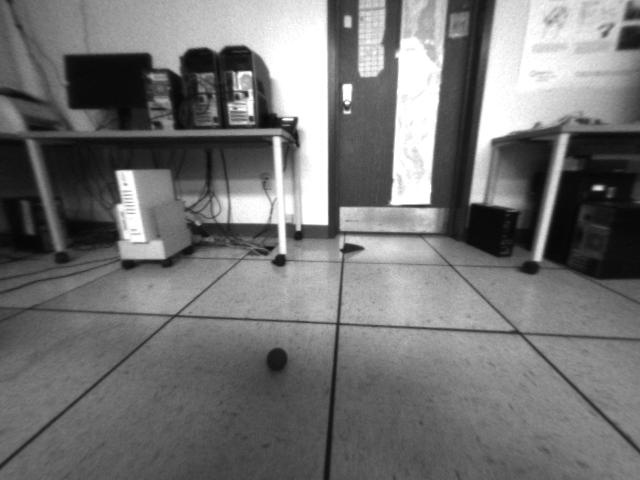dogtoy: (257, 342, 295, 377)
